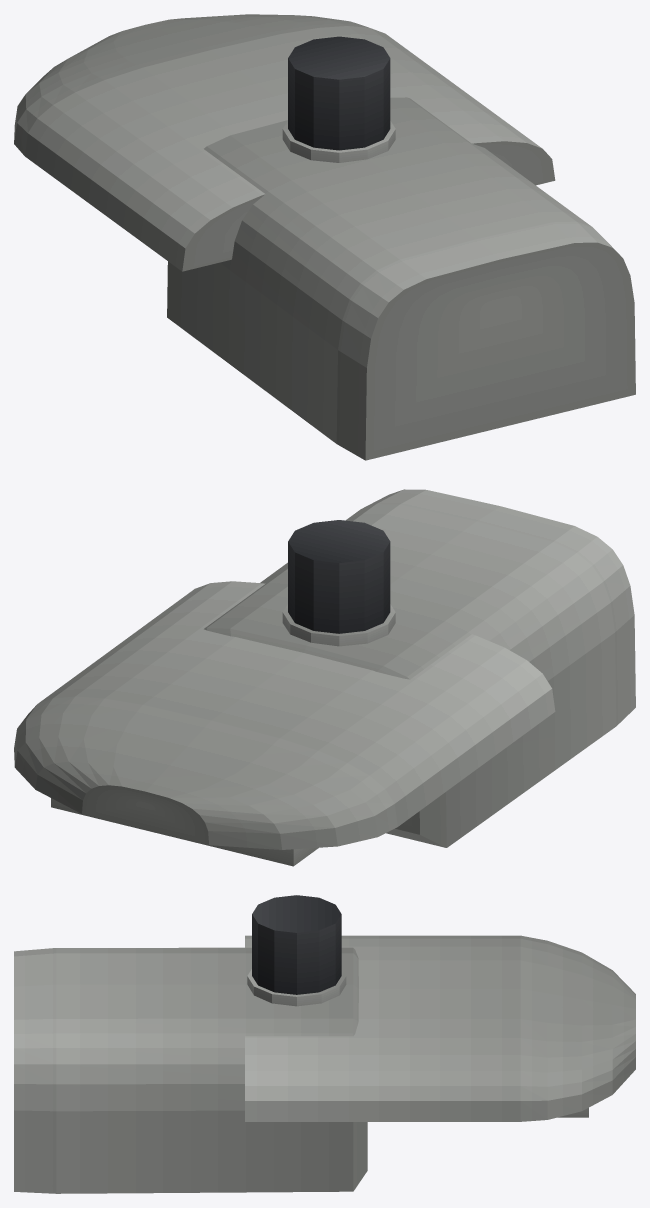
Rendered from streetlight_smsmxll5.obj.
3 views of the same model, one above another, from view 1: azimuth 30°, elevation 25°; view 2: azimuth 150°, elevation 25°; view 3: azimuth 270°, elevation 25° (orthographic). The views are drawn at different scales.
Visible parts, largest first — view 1: fixture; view 2: fixture; view 3: fixture.
Boxes of the visible parts, left/top/right/bottom form: fixture: left=14, top=14, right=635, bottom=460; fixture: left=14, top=489, right=635, bottom=866; fixture: left=14, top=895, right=635, bottom=1193.
Bounding box in the file's own units: 0.5 × 0.3219 × 0.8246.
